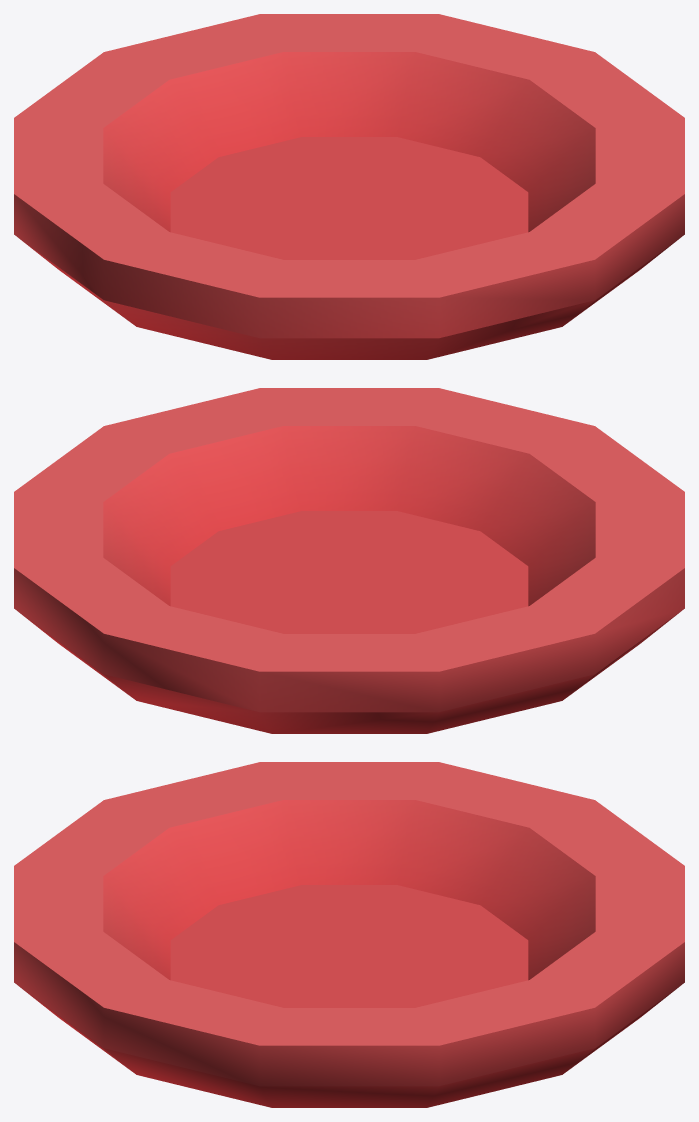
Rendered from plate_small_red.glb.
3 renders of one model, top to bottom at view 1: azimuth 30°, elevation 25°; view 2: azimuth 150°, elevation 25°; view 3: azimuth 270°, elevation 25°, orthographic.
Visible parts, largest first — view 1: plate_small_red; view 2: plate_small_red; view 3: plate_small_red.
Part boxes in pixels (x1,y1,x2,y2): plate_small_red: (14,14,684,359); plate_small_red: (14,388,684,733); plate_small_red: (14,762,684,1107).
Size of the model in its own units: 0.75 by 0.1 by 0.75.
Materials: 1 (1 with a texture image).
